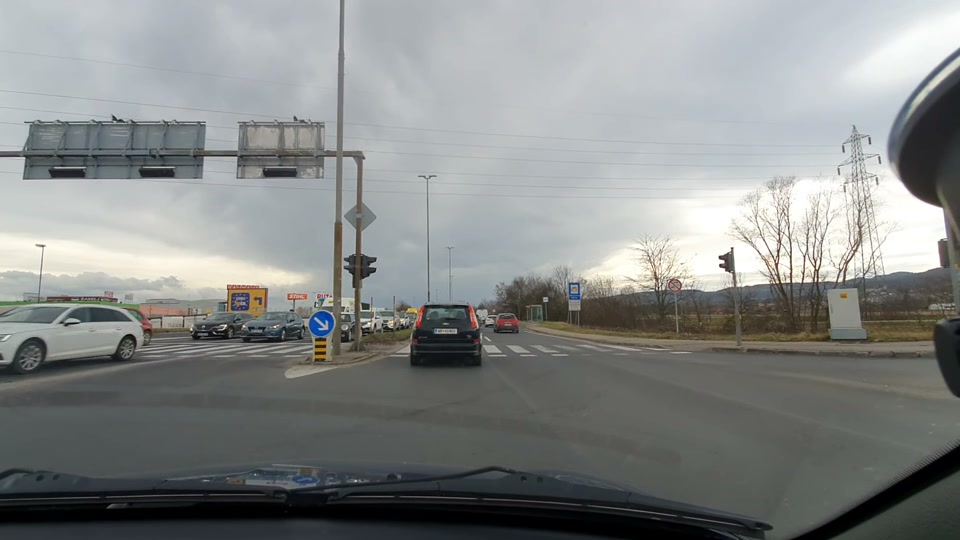vehicle_ign: (1, 293, 142, 356), (407, 297, 485, 369)
vehicle_s: (240, 308, 302, 344), (189, 306, 247, 342)
